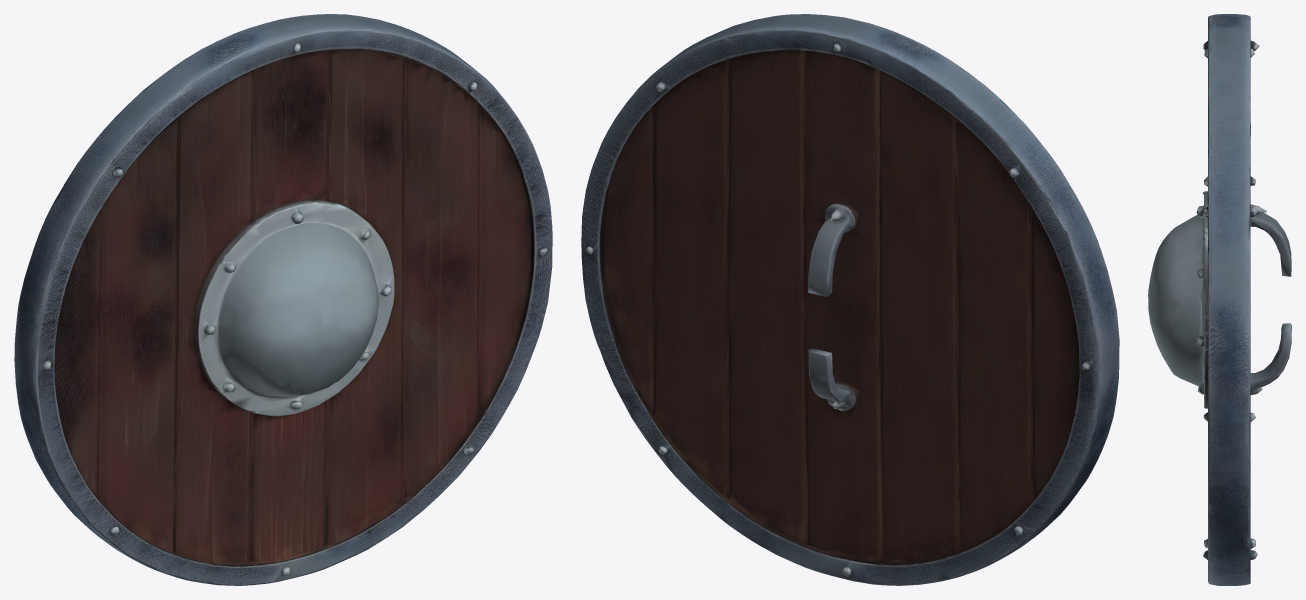
The model's file is round-wooden-shield.glb.
3 renders of one model, left to right at view 1: azimuth 30°, elevation 25°; view 2: azimuth 150°, elevation 25°; view 3: azimuth 270°, elevation 25°, orthographic. The views are drawn at different scales.
Parts seen in each view (by area): view 1: tripo_node_ff283d5d-35e7-4508-8a96-4b7064dabda8; view 2: tripo_node_ff283d5d-35e7-4508-8a96-4b7064dabda8; view 3: tripo_node_ff283d5d-35e7-4508-8a96-4b7064dabda8.
Boxes of the visible parts, box(x1,y1,x2,y2) form: tripo_node_ff283d5d-35e7-4508-8a96-4b7064dabda8: box(14, 14, 552, 585); tripo_node_ff283d5d-35e7-4508-8a96-4b7064dabda8: box(581, 14, 1119, 585); tripo_node_ff283d5d-35e7-4508-8a96-4b7064dabda8: box(1148, 14, 1291, 585).
Bounding box in the file's own units: 0.9996 × 1 × 0.2492.
Materials: 1 (1 with a texture image).
